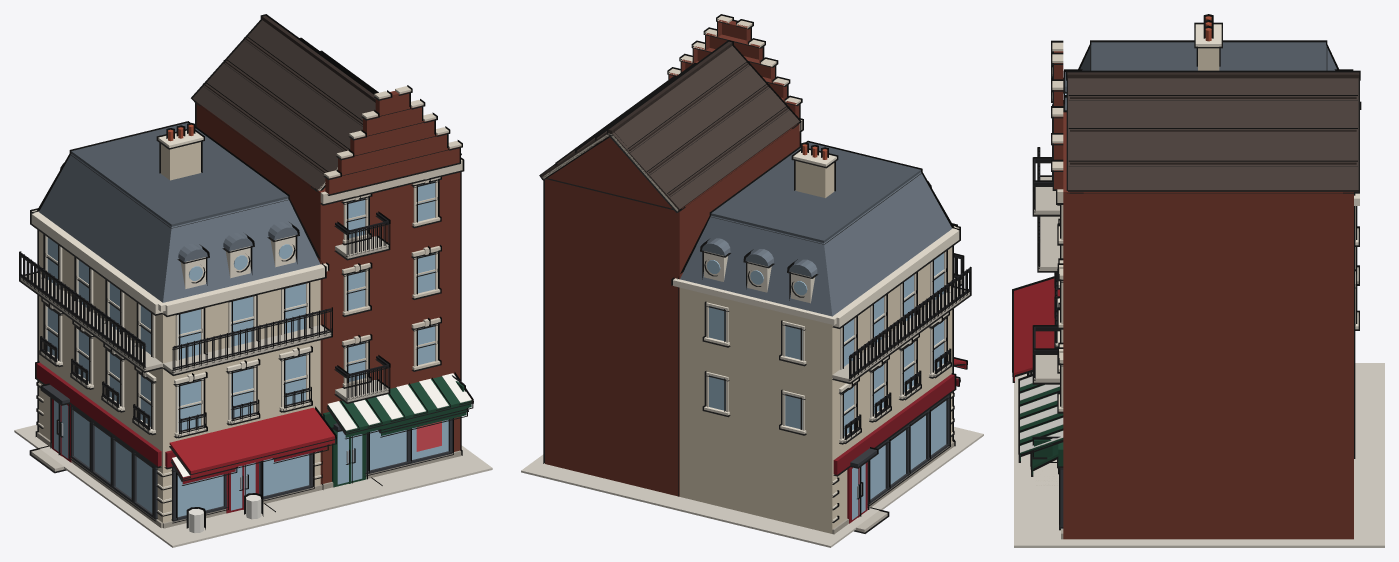
Rendered from Dukkan_cadde_eski.fbx.
3 views of the same model, side by side, from view 1: azimuth 30°, elevation 25°; view 2: azimuth 150°, elevation 25°; view 3: azimuth 270°, elevation 25° (orthographic). The views are drawn at different scales.
Visible parts, largest first — view 1: Dukkan_cadde_eski; view 2: Dukkan_cadde_eski; view 3: Dukkan_cadde_eski.
Part boxes in pixels (<box>): Dukkan_cadde_eski: <box>14,14,492,547</box>; Dukkan_cadde_eski: <box>521,14,983,547</box>; Dukkan_cadde_eski: <box>1012,14,1384,547</box>.
Bounding box in the file's own units: 14.44 × 16.19 × 12.06.
